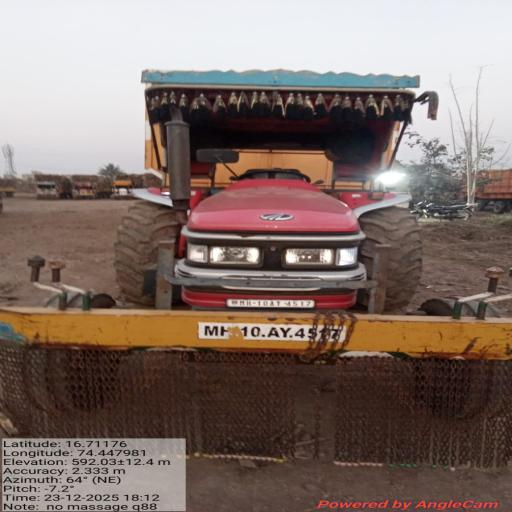number_plate: (182, 314, 370, 353)
